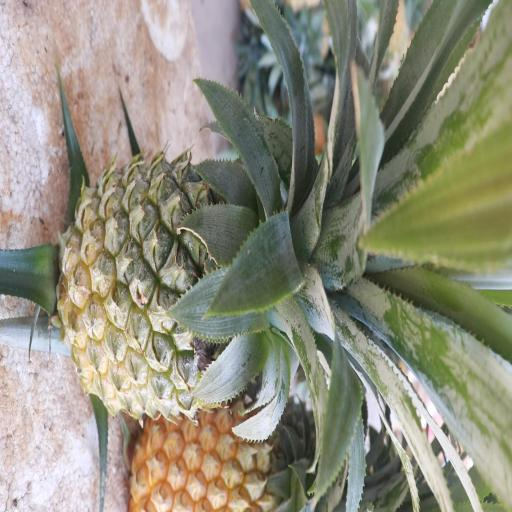------------------------------: (68, 152, 332, 415)
Pineapple - v8 v1: (129, 402, 338, 512)
